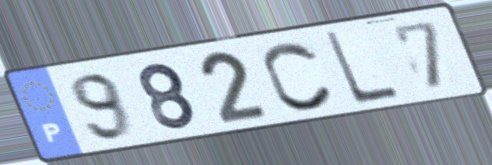2: (200, 47, 275, 128)
7: (390, 18, 447, 92)
8: (135, 60, 200, 133)
9: (69, 71, 137, 141)
C: (260, 40, 337, 113)
L: (321, 28, 404, 108)
